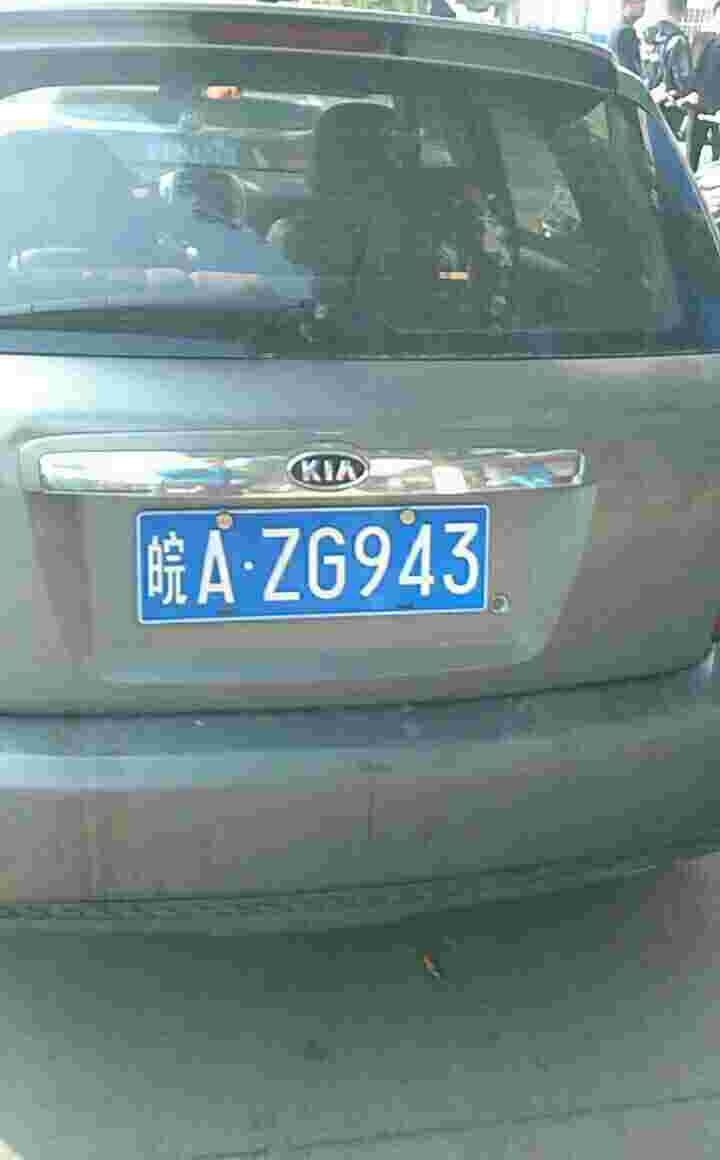license_plate: (129, 507, 497, 626)
